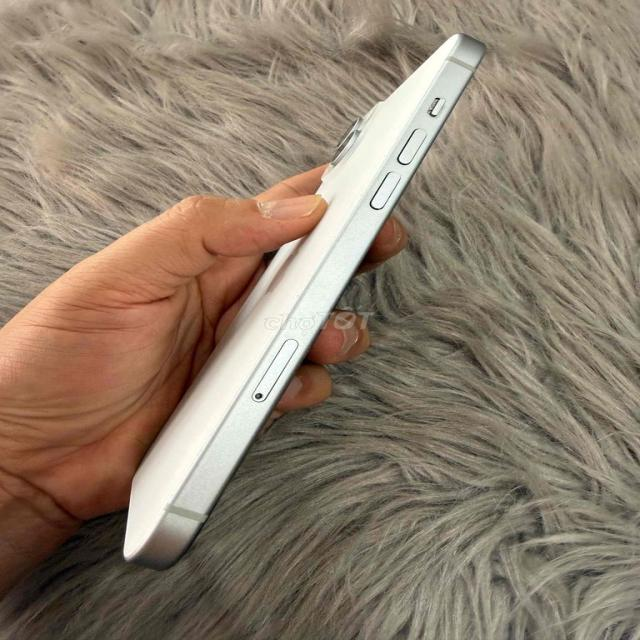gen_15: (110, 33, 509, 576)
scratch: (290, 261, 340, 320)
